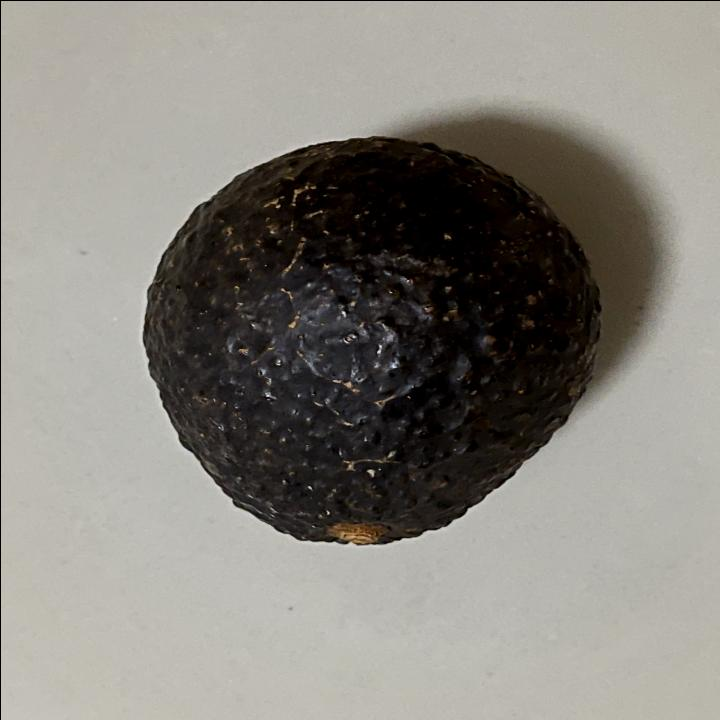Level2: (132, 130, 613, 556)
